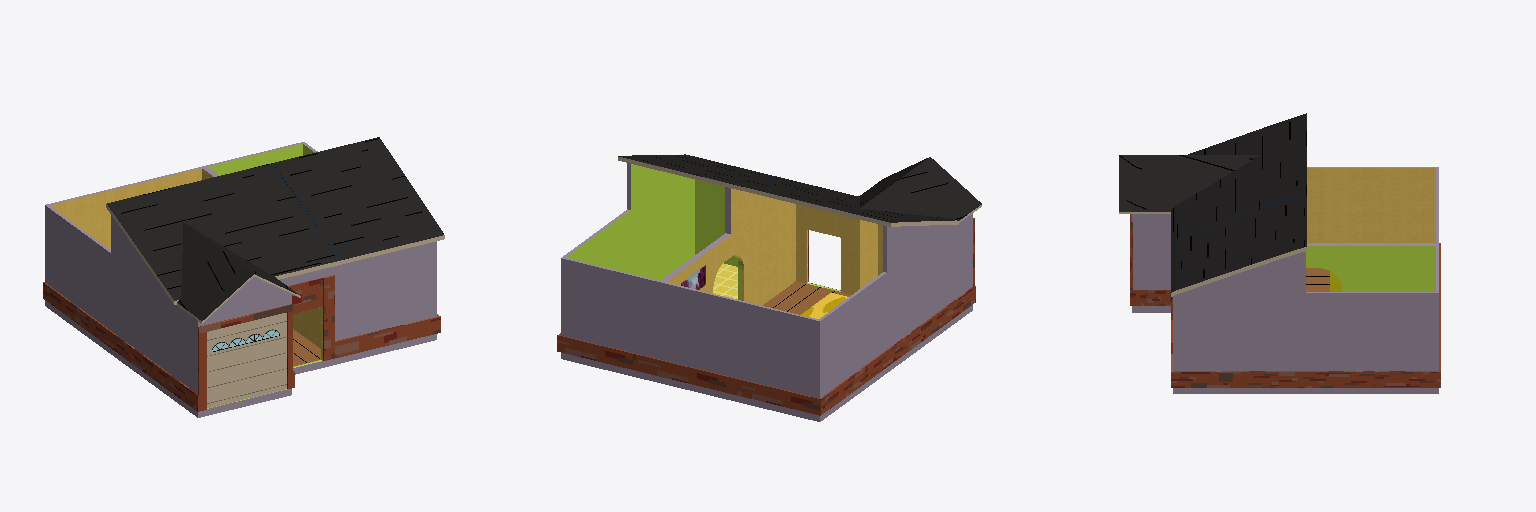
The picture shows the model from 3 angles: view 1: azimuth 30°, elevation 25°; view 2: azimuth 150°, elevation 25°; view 3: azimuth 270°, elevation 25°; orthographic projection.
Visible parts, largest first — view 1: Casa:Fachada1, Ladrillos; view 2: Casa:Fachada1, Ladrillos; view 3: Casa:Fachada1, Ladrillos.
Boxes of the visible parts, x1,y1,x2,y2 form: Casa:Fachada1: [45, 137, 444, 417]; Ladrillos: [43, 275, 440, 411]; Casa:Fachada1: [561, 154, 981, 421]; Ladrillos: [557, 218, 975, 415]; Casa:Fachada1: [1119, 113, 1438, 393]; Ladrillos: [1130, 214, 1440, 387].
Size of the model in its own units: 1621 by 862 by 1652.
2 materials, 2 textured.